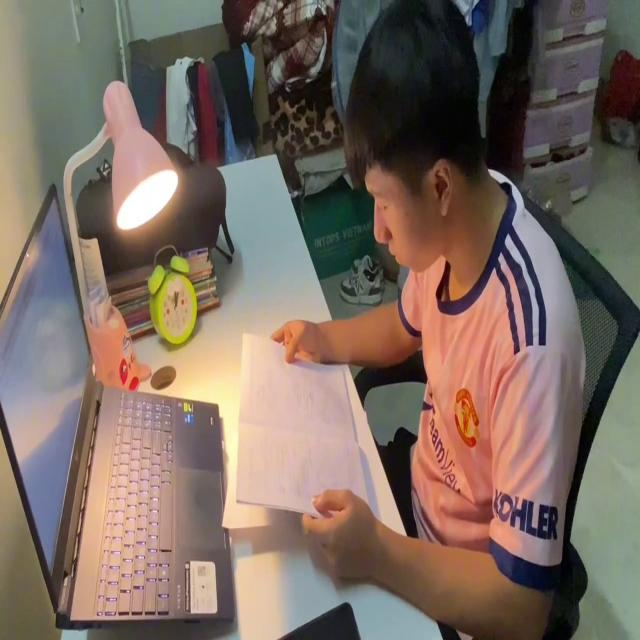book: (232, 330, 375, 527)
laptop: (1, 182, 238, 628)
phone: (282, 600, 364, 640)
student: (256, 0, 586, 640)
